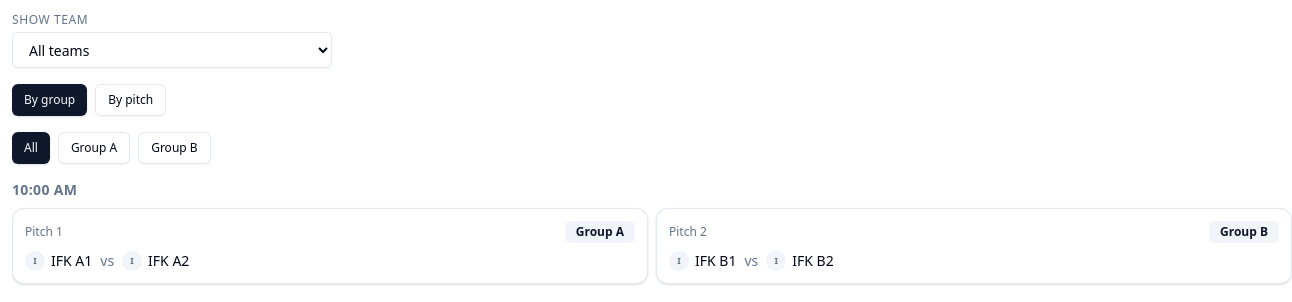
Test: PublicScheduleView › filters by a specific team via the dropdown
expect the text "IFK A1" is shown: met, box x1=51 y1=251 x2=92 y2=270
Select "IFK A1" in the dropdown labelled "Show team" at (172, 50), box x1=12 y1=32 x2=332 y2=68
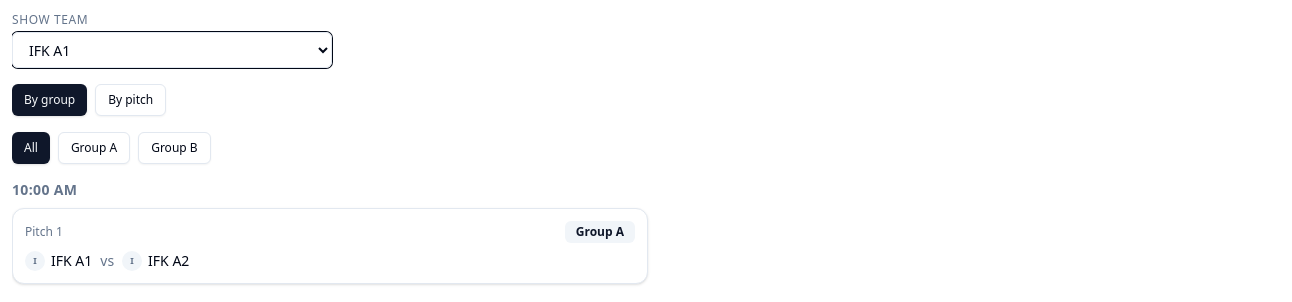
expect the text "IFK A1" is shown: met, box x1=51 y1=251 x2=92 y2=270
expect the text "IFK B1" is gone: met
